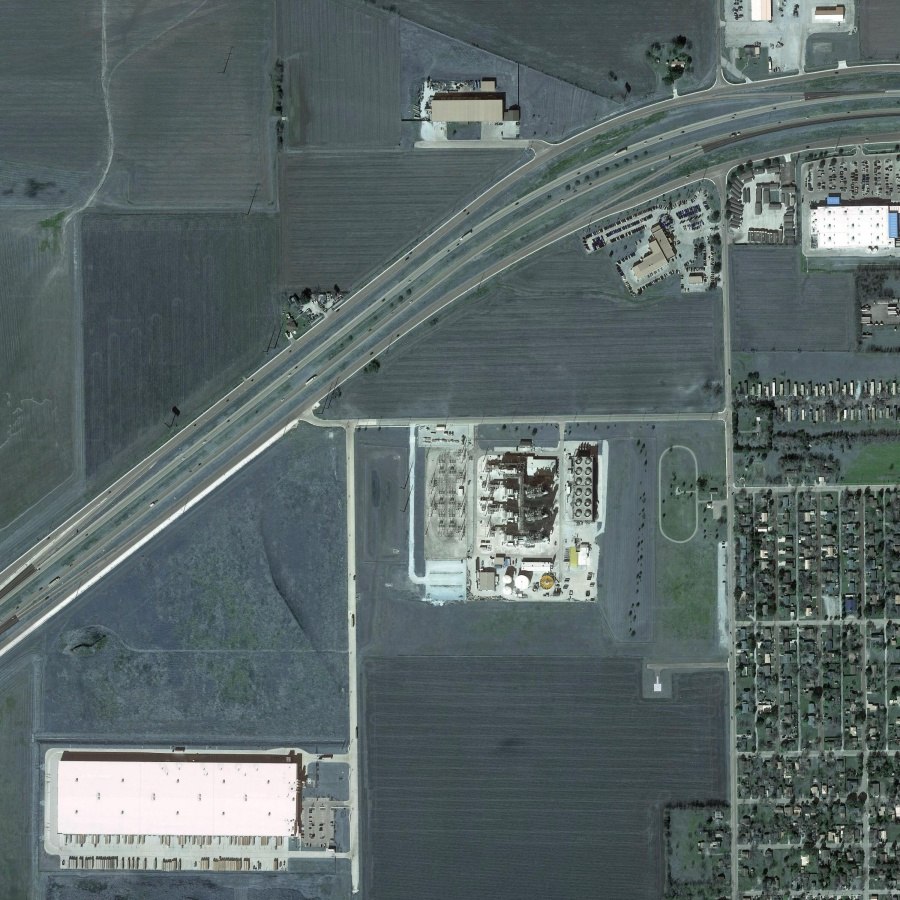PowerPlant: (411, 419, 605, 608)
